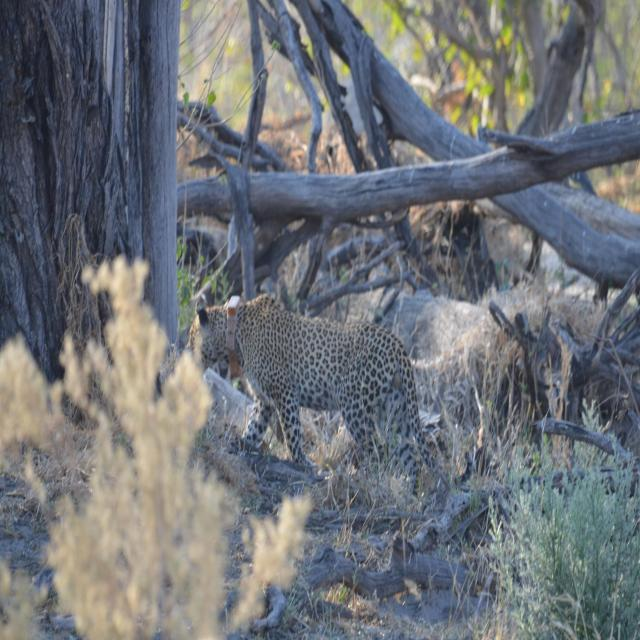Leopard: (195, 286, 460, 498)
